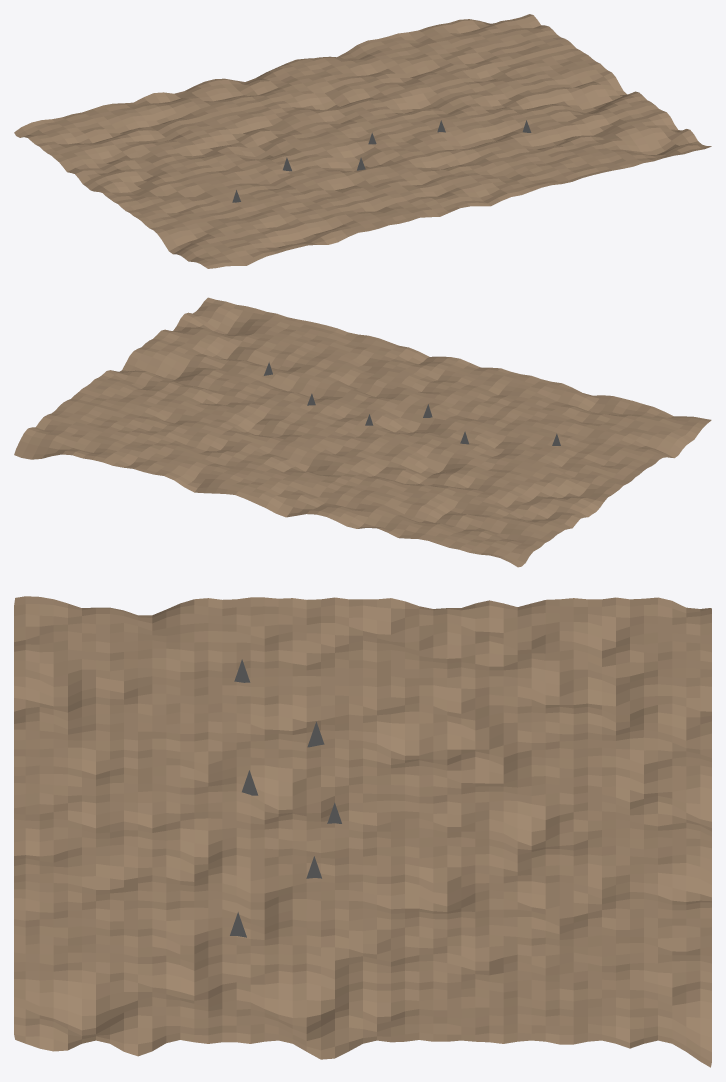
Rendered from planet.glb.
3 renders of one model, top to bottom at view 1: azimuth 30°, elevation 25°; view 2: azimuth 150°, elevation 25°; view 3: azimuth 270°, elevation 25°, orthographic. The views are drawn at different scales.
Visible parts, largest first — view 1: plane; view 2: plane; view 3: plane.
Part boxes in pixels (box(x1,y1,x2,y2)): plane: box(14, 14, 711, 268); plane: box(14, 297, 711, 567); plane: box(14, 596, 711, 1067).
Bounding box in the file's own units: 23.99 × 1.25 × 16.
